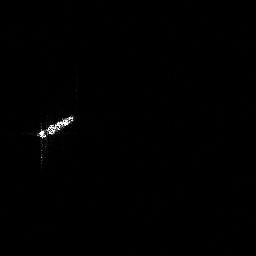ship: (32, 110, 78, 143)
